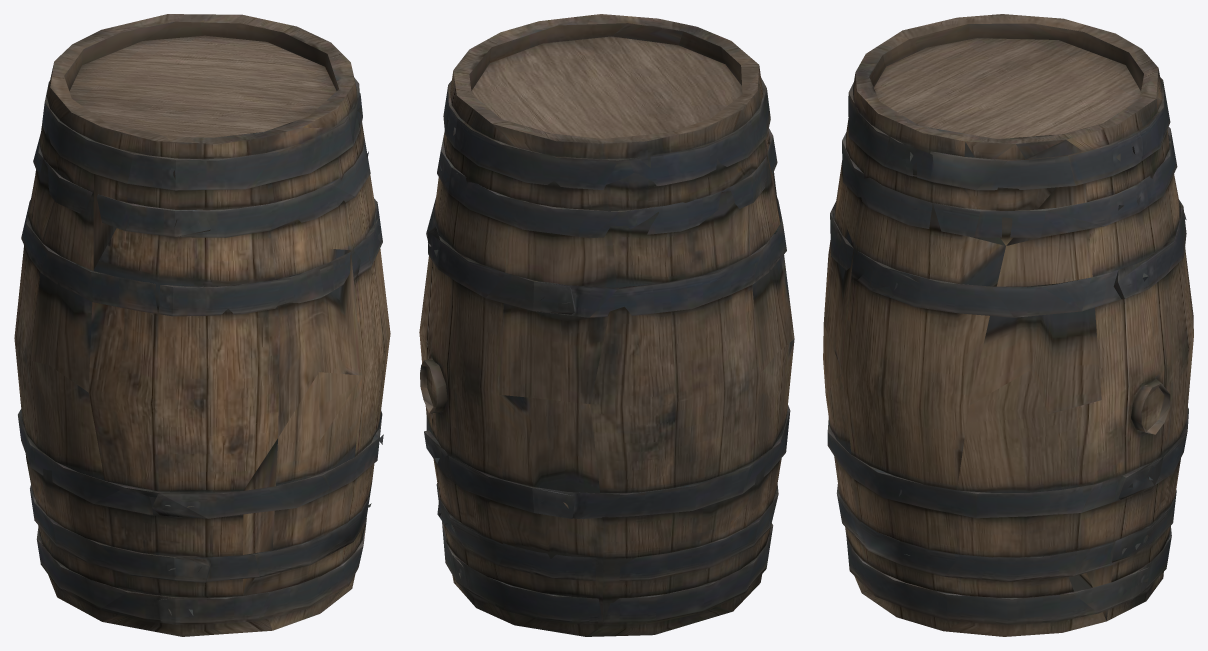
Rendered from Barrel.glb.
The picture shows the model from 3 angles, left to right: view 1: azimuth 30°, elevation 25°; view 2: azimuth 150°, elevation 25°; view 3: azimuth 270°, elevation 25°; orthographic projection.
Visible parts, largest first — view 1: Barrel; view 2: Barrel; view 3: Barrel.
Boxes of the visible parts, x1,y1,x2,y2 form: Barrel: (14, 14, 390, 636); Barrel: (419, 14, 794, 636); Barrel: (823, 14, 1193, 636).
Size of the model in its own units: 0.58 by 0.85 by 0.58.
1 material, 1 textured.
